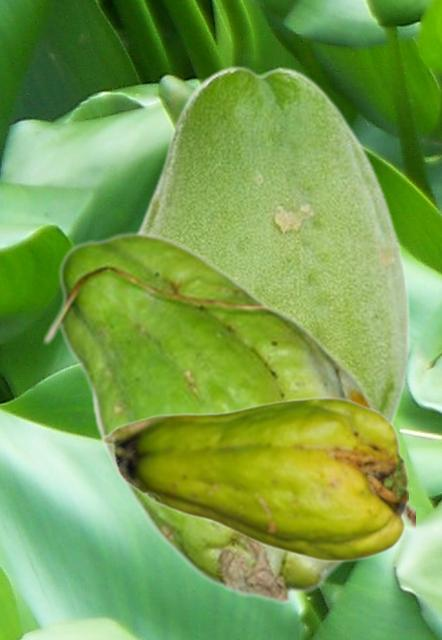sayote: (41, 231, 414, 604), (90, 64, 410, 489), (100, 396, 407, 562)
